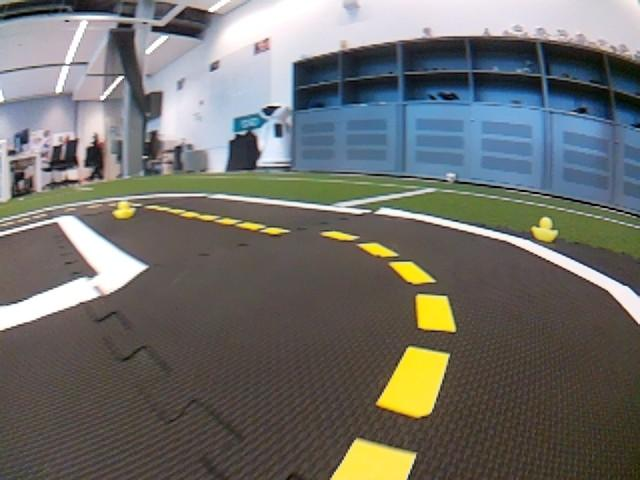Duckies: (531, 218, 557, 243), (113, 201, 137, 219)
